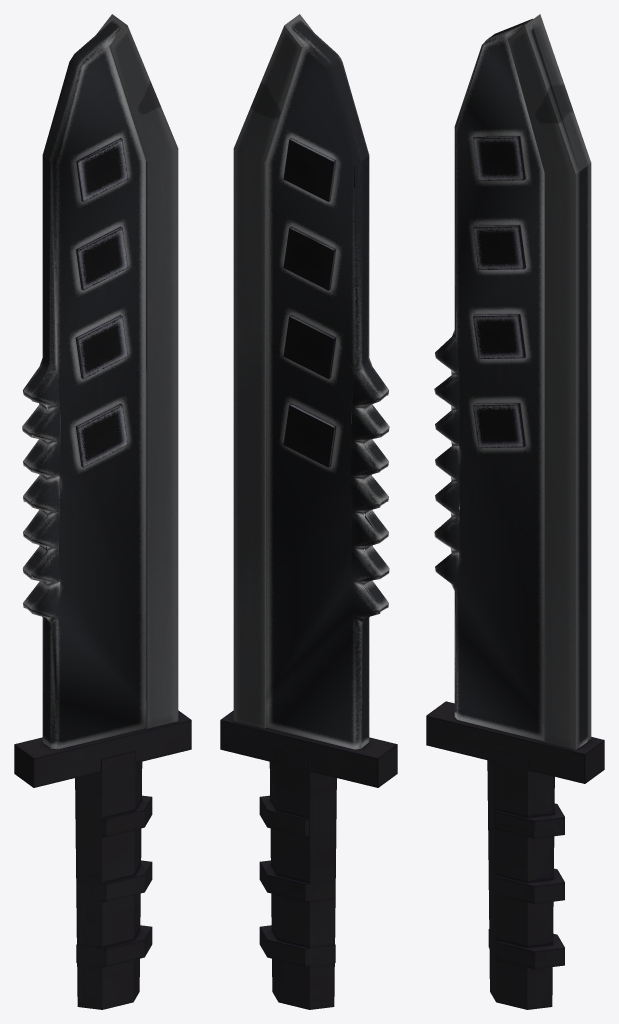
The model's file is 07_020_machete.glb.
The picture shows the model from 3 angles, left to right: view 1: azimuth 30°, elevation 25°; view 2: azimuth 150°, elevation 25°; view 3: azimuth 330°, elevation 25°; orthographic projection.
Visible parts, largest first — view 1: Machete; view 2: Machete; view 3: Machete.
Part boxes in pixels (x1=…): Machete: x1=14, y1=14, x2=191, y2=1009; Machete: x1=220, y1=14, x2=397, y2=1009; Machete: x1=426, y1=14, x2=604, y2=1009.
Bounding box in the file's own units: 0.053 × 0.313 × 0.0133.
1 material, 1 textured.
